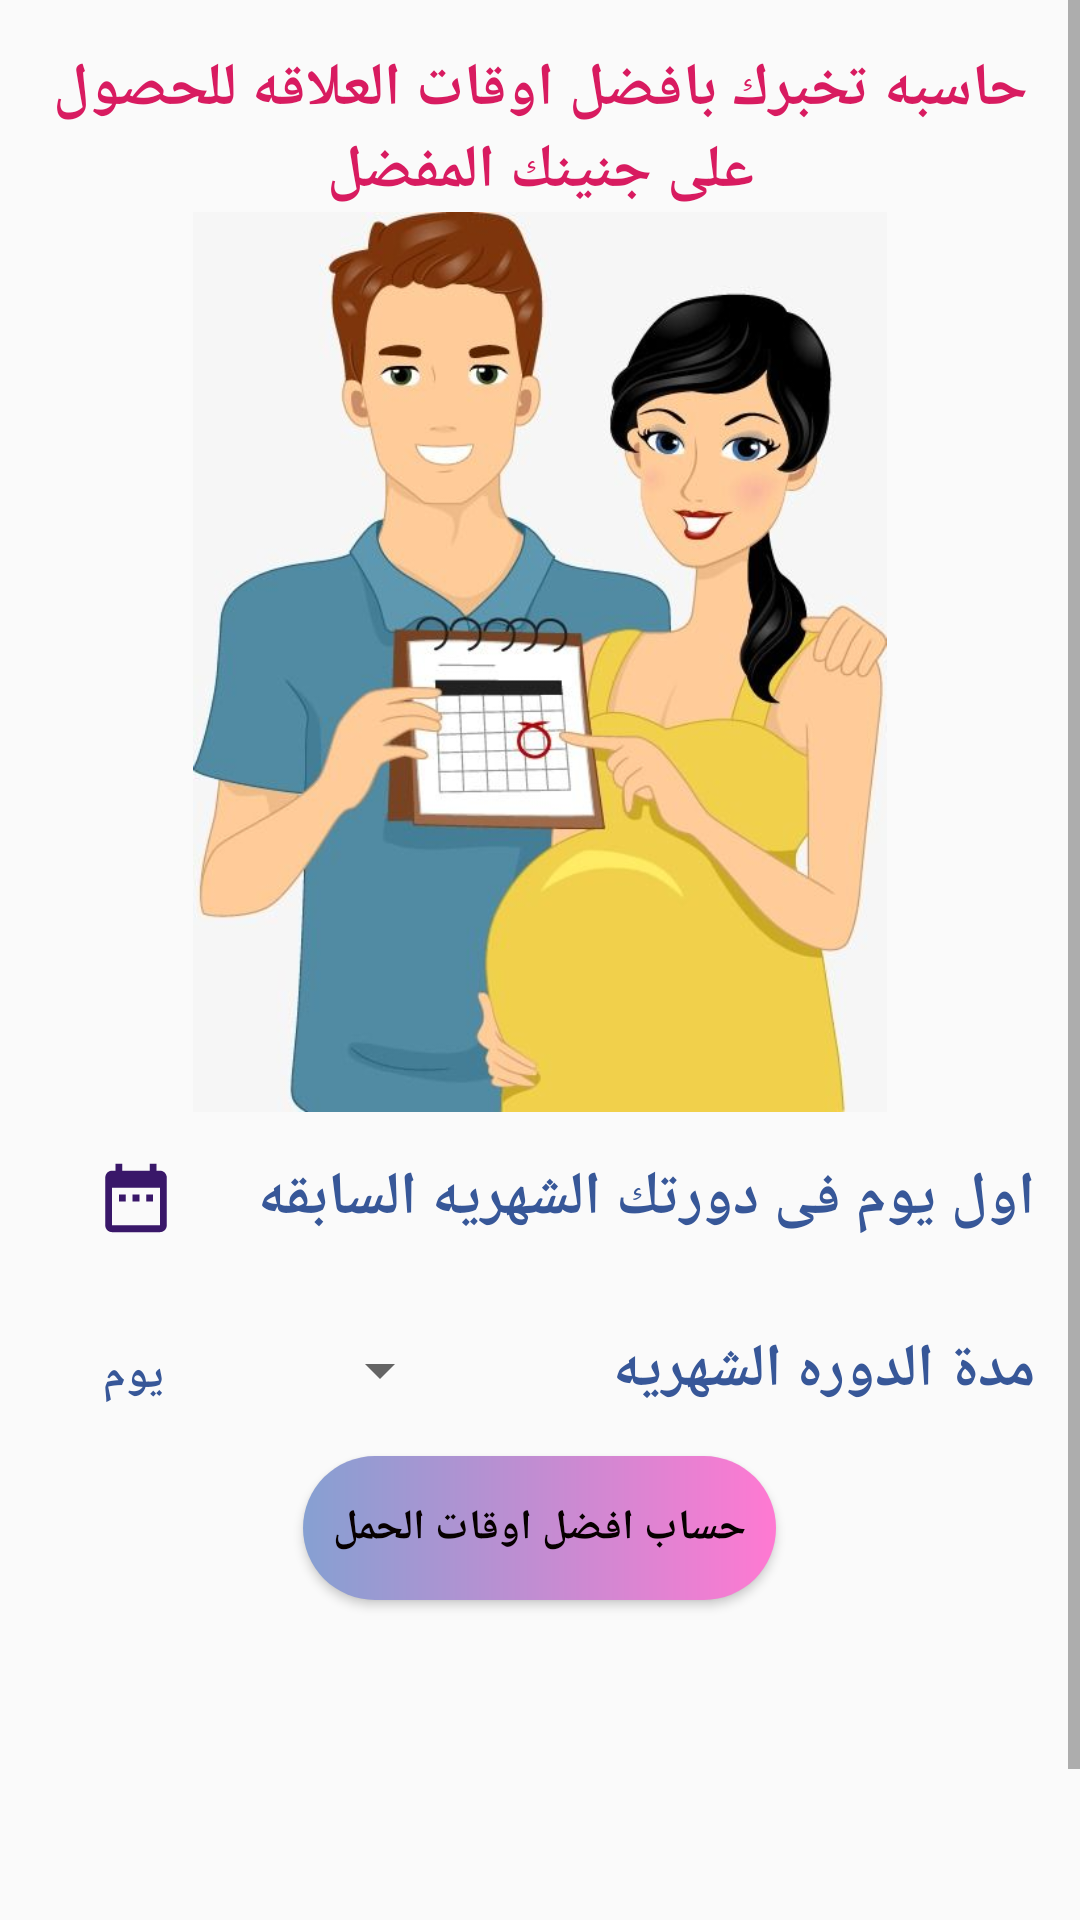

Named icons in this screenshot (1080 x 1920) and their centers, (x=x, y=y):
date range: (x=136, y=1198)
